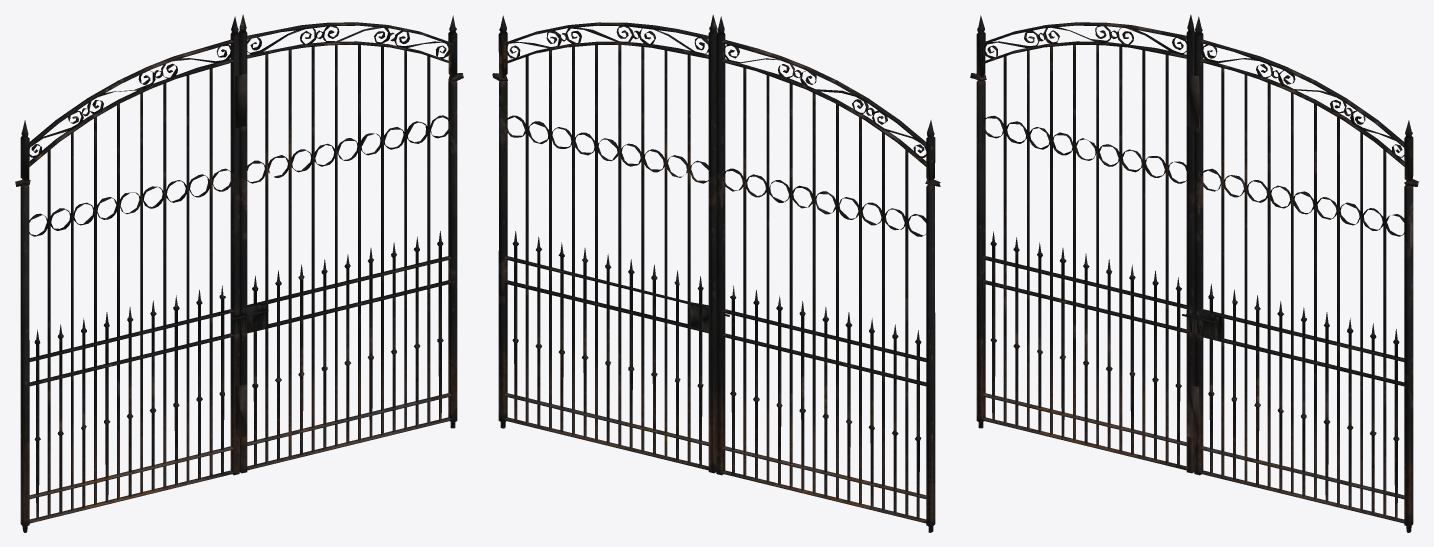
File: scene-gate.glb
3 renders of one model, left to right at view 1: azimuth 30°, elevation 25°; view 2: azimuth 150°, elevation 25°; view 3: azimuth 330°, elevation 25°, orthographic.
Visible parts, largest first — view 1: large_iron_gate_right_door; view 2: large_iron_gate_right_door; view 3: large_iron_gate_right_door.
Part boxes in pixels (box(x1,y1,x2,y2)): large_iron_gate_right_door: box(15, 14, 463, 532); large_iron_gate_right_door: box(492, 14, 940, 532); large_iron_gate_right_door: box(970, 14, 1418, 532).
Bounding box in the file's own units: 2.95 × 2.93 × 0.0972.
Materials: 1 (1 with a texture image).
